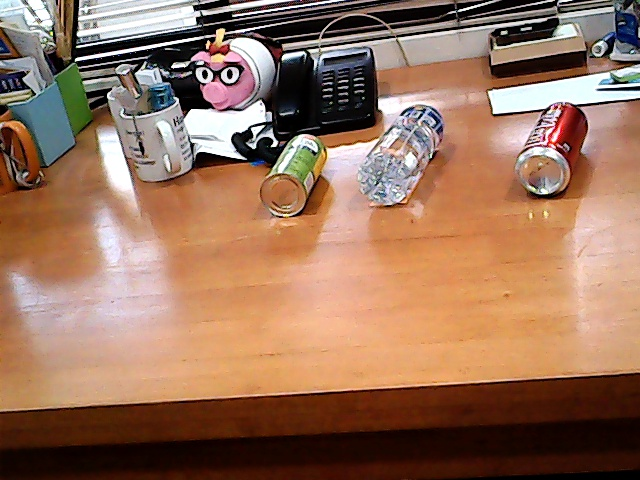Cola: (500, 86, 598, 213)
Pine Juice: (245, 121, 341, 227)
Summit Water: (351, 89, 459, 221)
